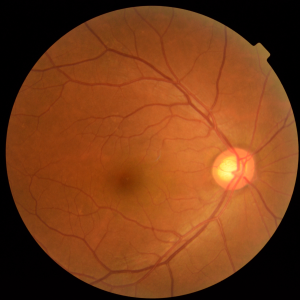glaucoma: (92, 97, 275, 213)
